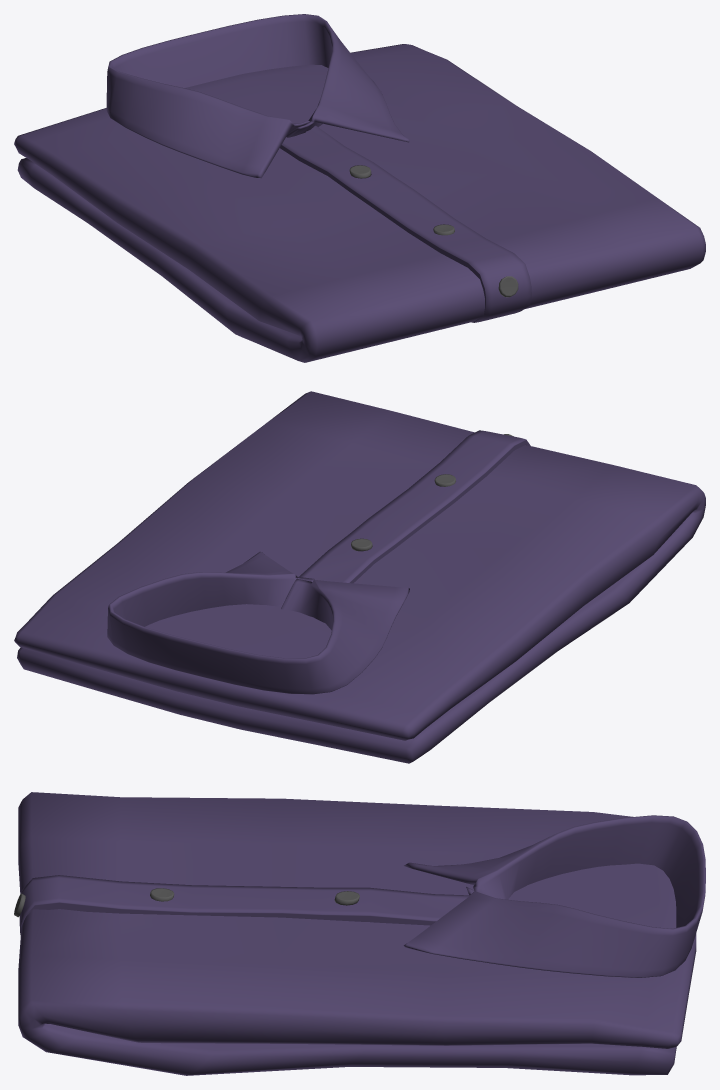
Rendered from Folded_Shirt09.fbx.
The picture shows the model from 3 angles, top to bottom: view 1: azimuth 30°, elevation 25°; view 2: azimuth 150°, elevation 25°; view 3: azimuth 270°, elevation 25°; orthographic projection. The views are drawn at different scales.
Visible parts, largest first — view 1: Folded_Shirt09; view 2: Folded_Shirt09; view 3: Folded_Shirt09.
Boxes of the visible parts, box(x1,y1,x2,y2) form: Folded_Shirt09: box(14, 14, 705, 362); Folded_Shirt09: box(14, 391, 705, 763); Folded_Shirt09: box(14, 792, 705, 1075).
Size of the model in its own units: 24.89 by 5.51 by 33.24.
